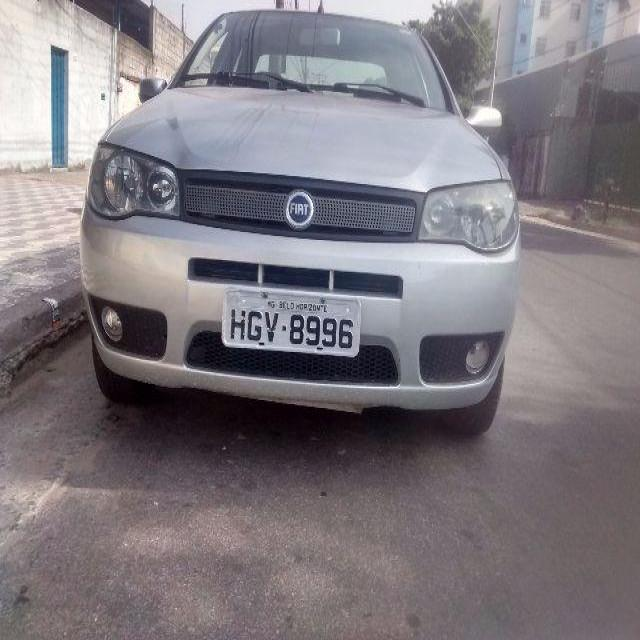Placa: (218, 284, 363, 363)
